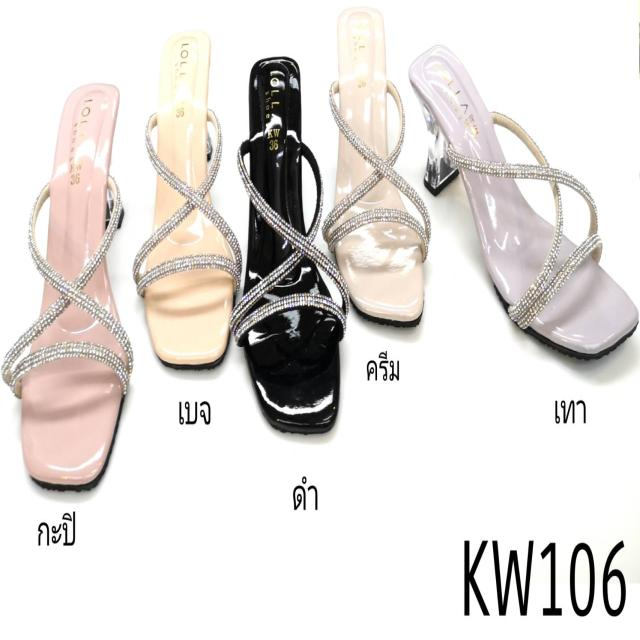bej: (146, 34, 232, 366)
black: (239, 56, 342, 442)
cream: (332, 3, 423, 326)
grey: (416, 37, 634, 356)
kapi: (19, 80, 132, 493)
